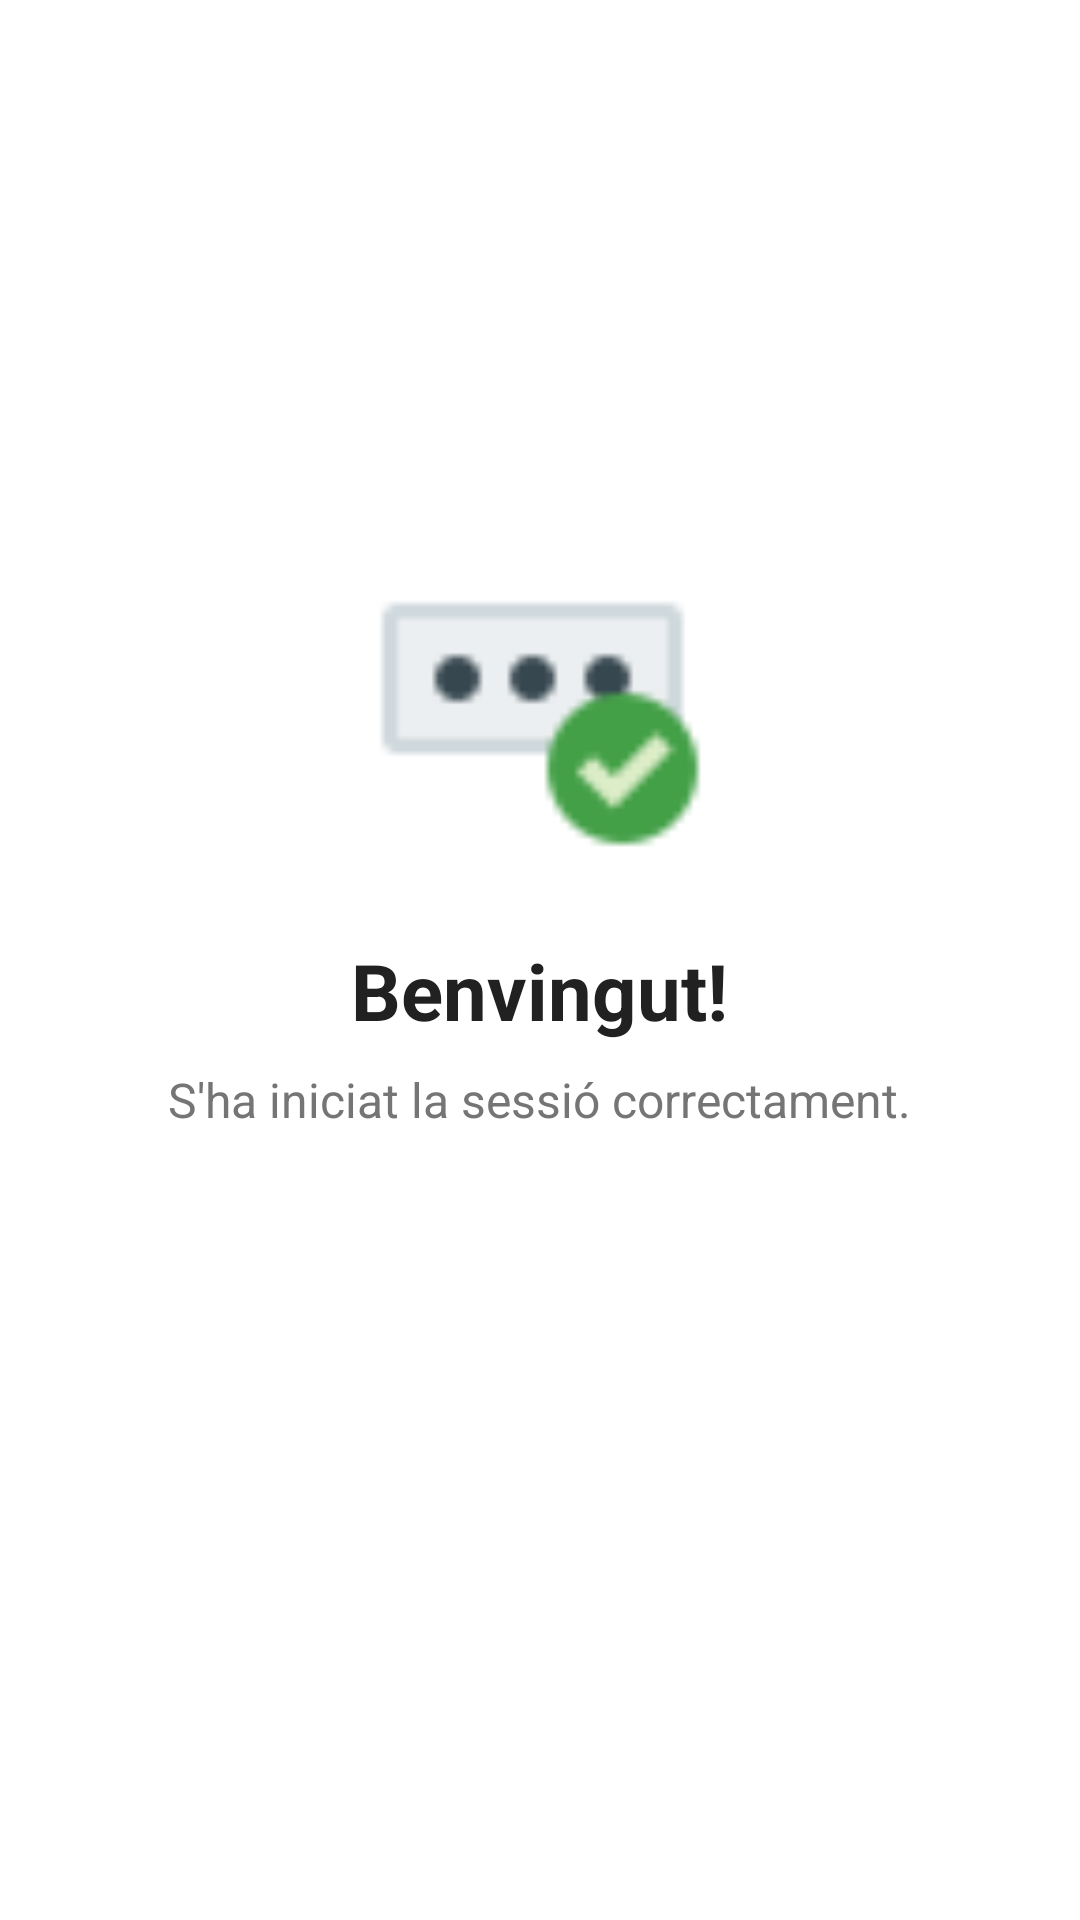

Screen size 1080w x 1920h. Icon name, then its center in pixels as (x=x, y=y):
Icono Éxito: (x=540, y=724)
